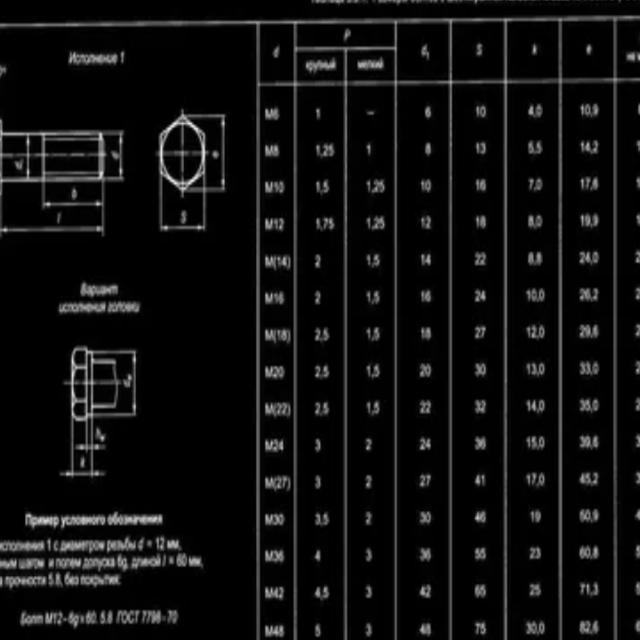marking_line: (0, 194, 106, 237), (60, 421, 107, 480), (41, 183, 109, 211), (205, 113, 228, 193), (156, 194, 207, 230), (118, 350, 137, 417), (107, 129, 126, 182), (91, 420, 107, 450), (76, 421, 90, 455), (26, 136, 31, 177)
